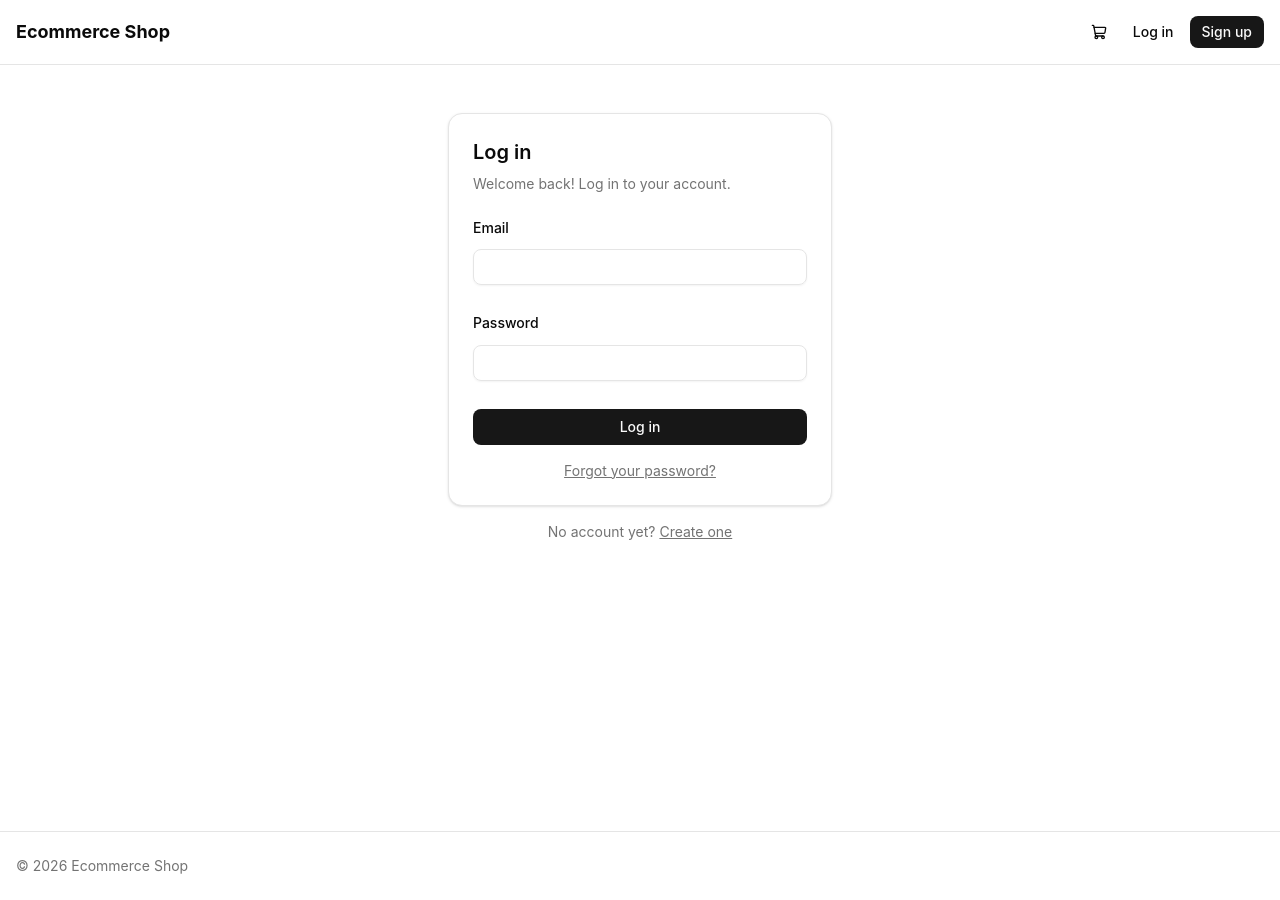
Test: login page › shows the server message for wrong credentials
The image size is (1280, 900).
Type "jane@example.com" into the field labelled "Email".
click(640, 267); type("jane@example.com")  # box [473,249,807,285]
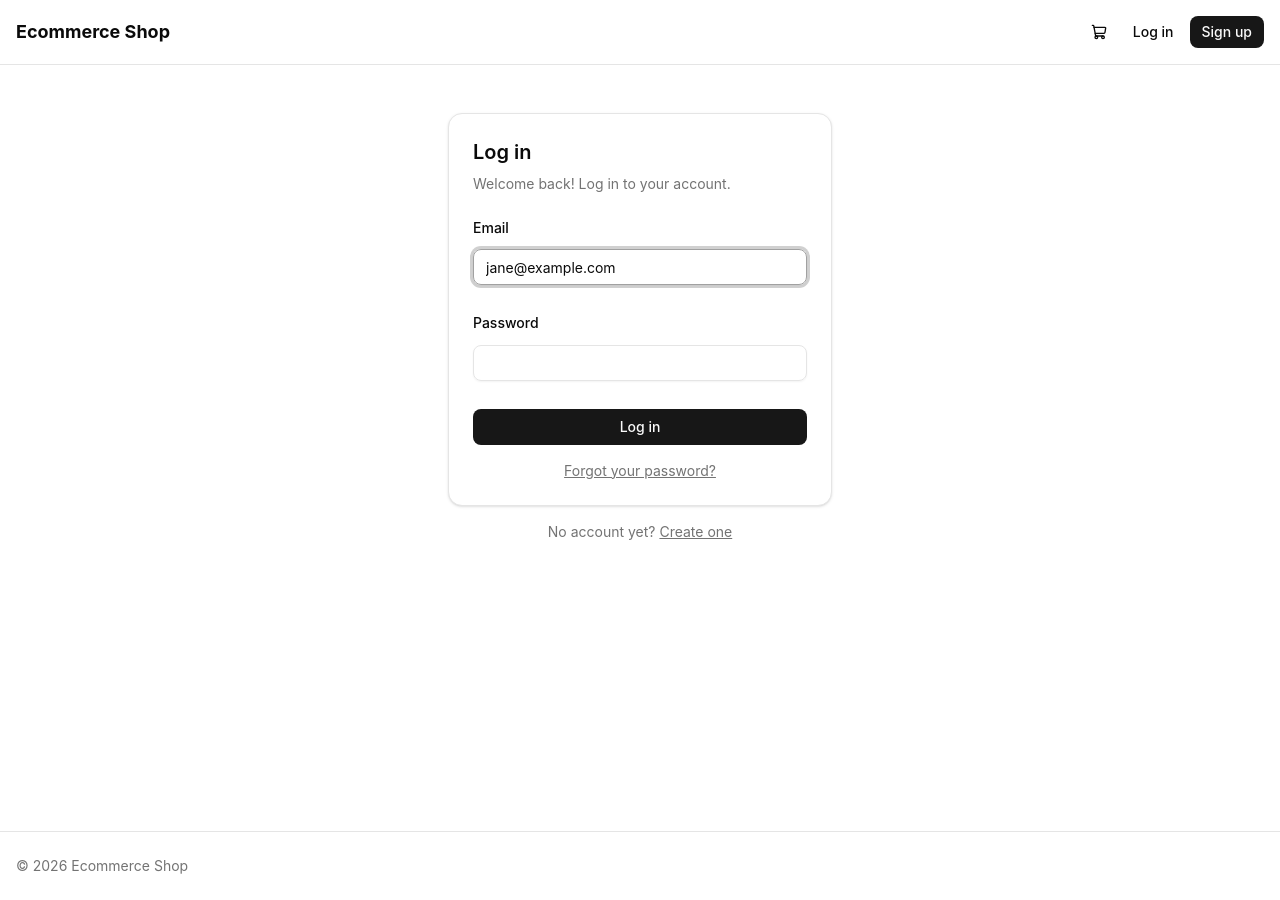
Type "wrong-password" into the password field labelled "Password".
click(640, 362); type("wrong-password")  # box [473,344,807,380]
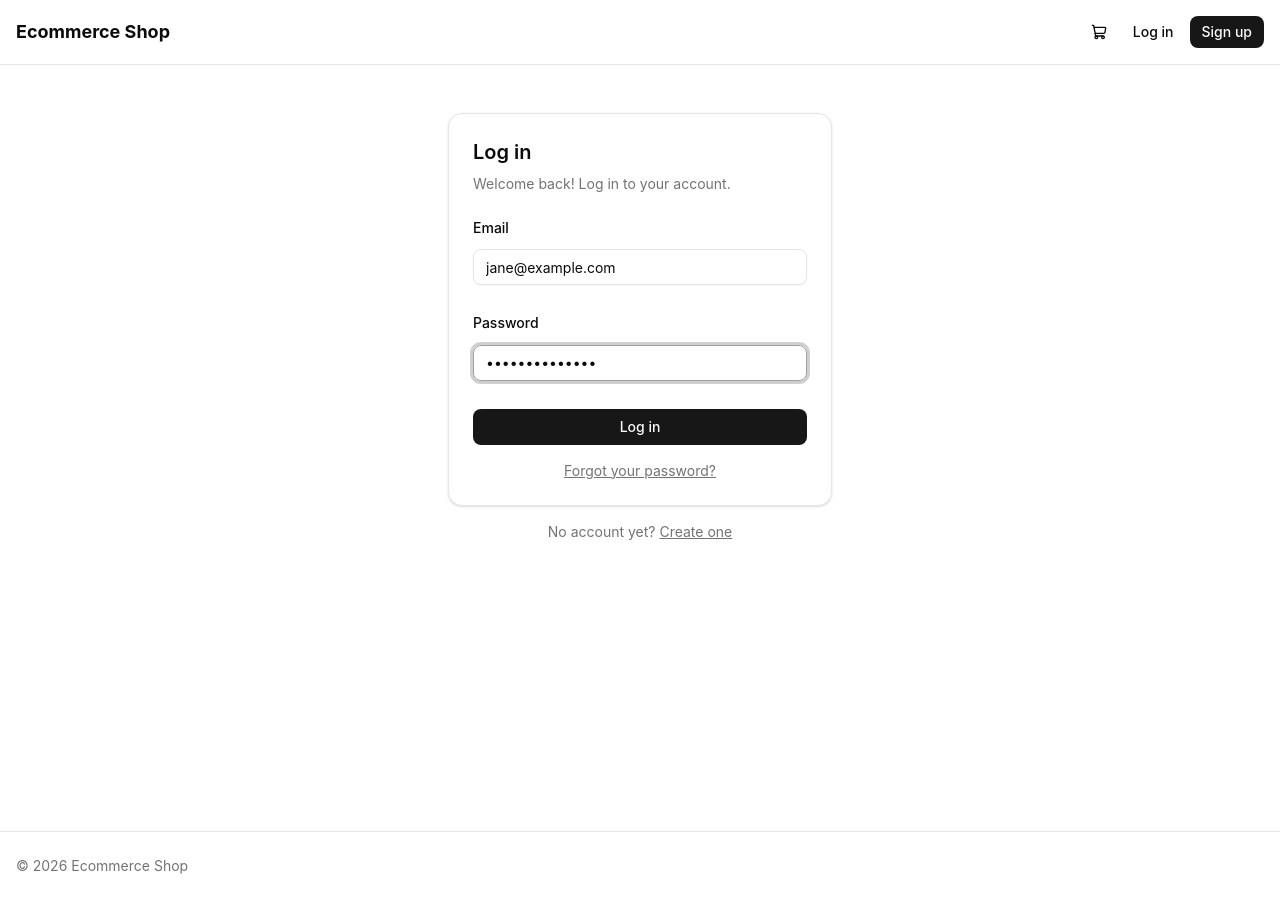
Click the button "Log in".
click(640, 426)  # box [473,408,807,444]
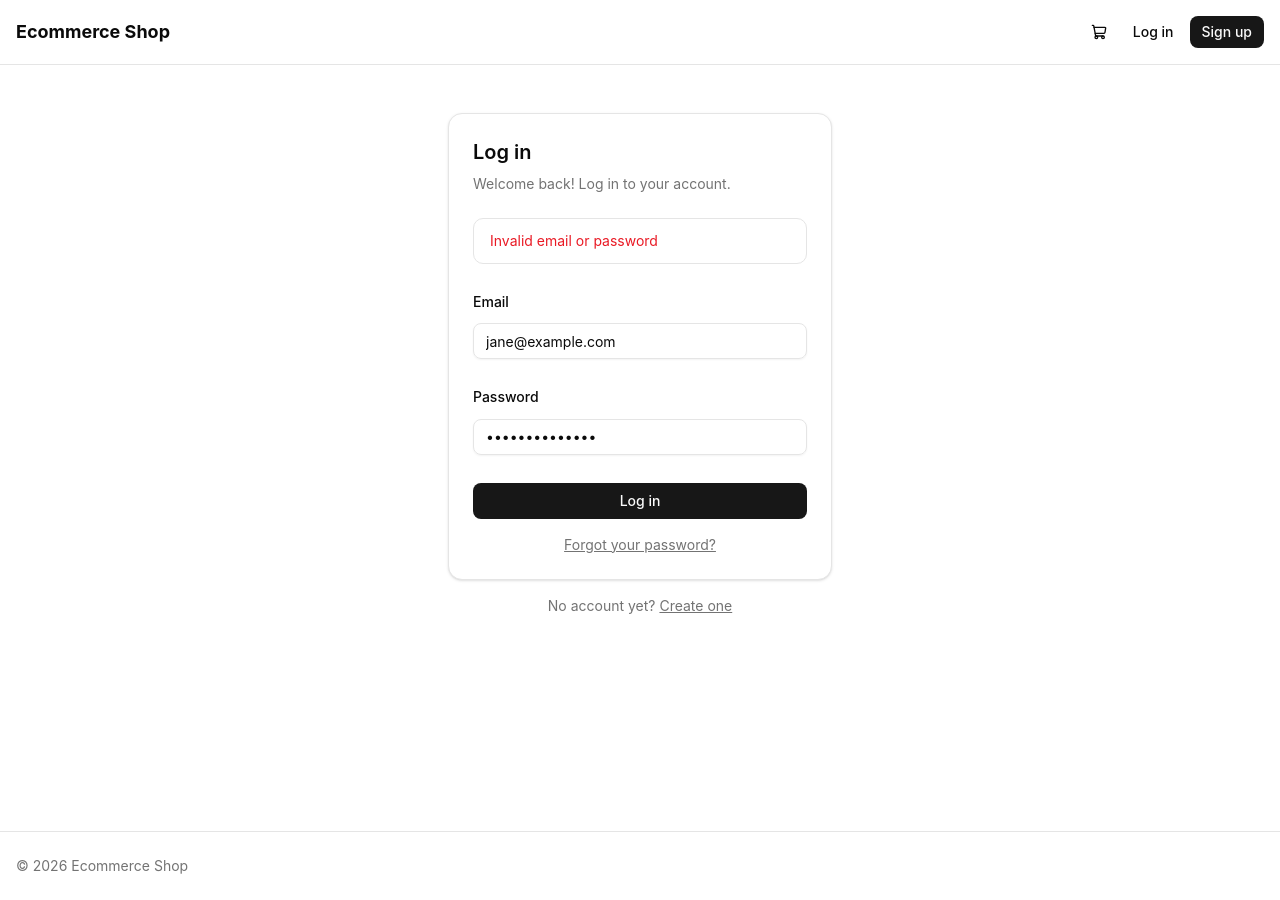
Check: the text "Invalid email or password" is shown, box [490,232,658,249]
